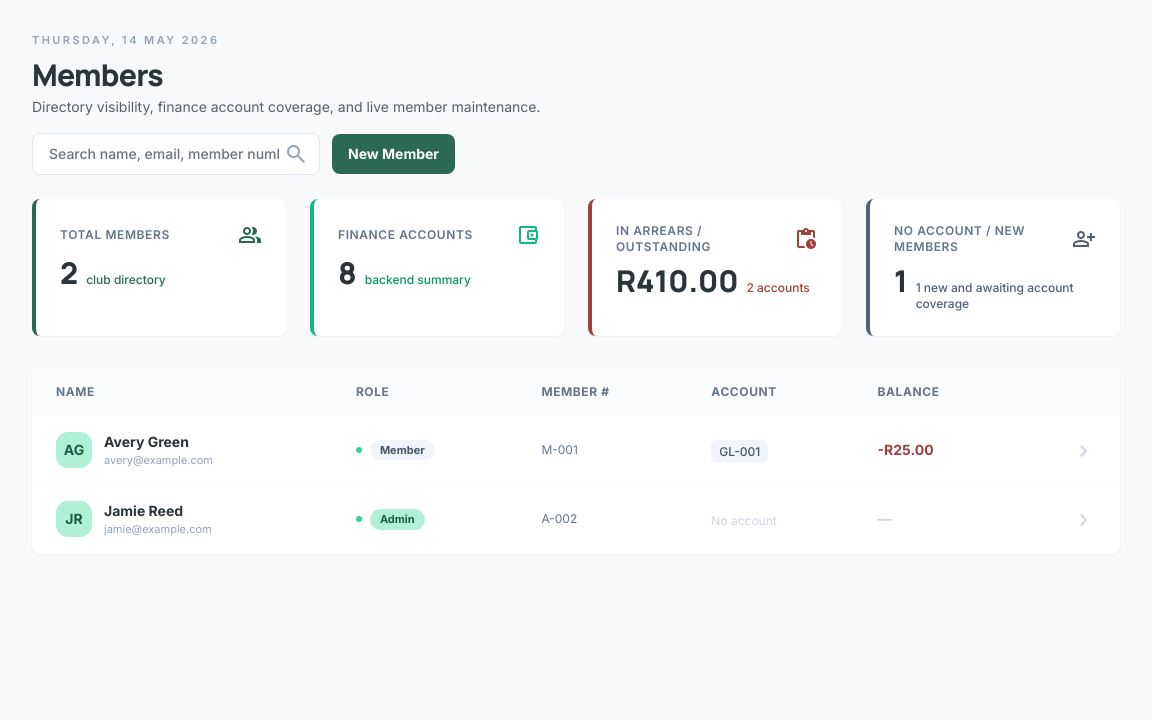
it: AdminMembersPage › keeps the create modal open and renders the error inside the modal on create failure
Click the button "New Member" at (394, 154), box [332,134,455,174]
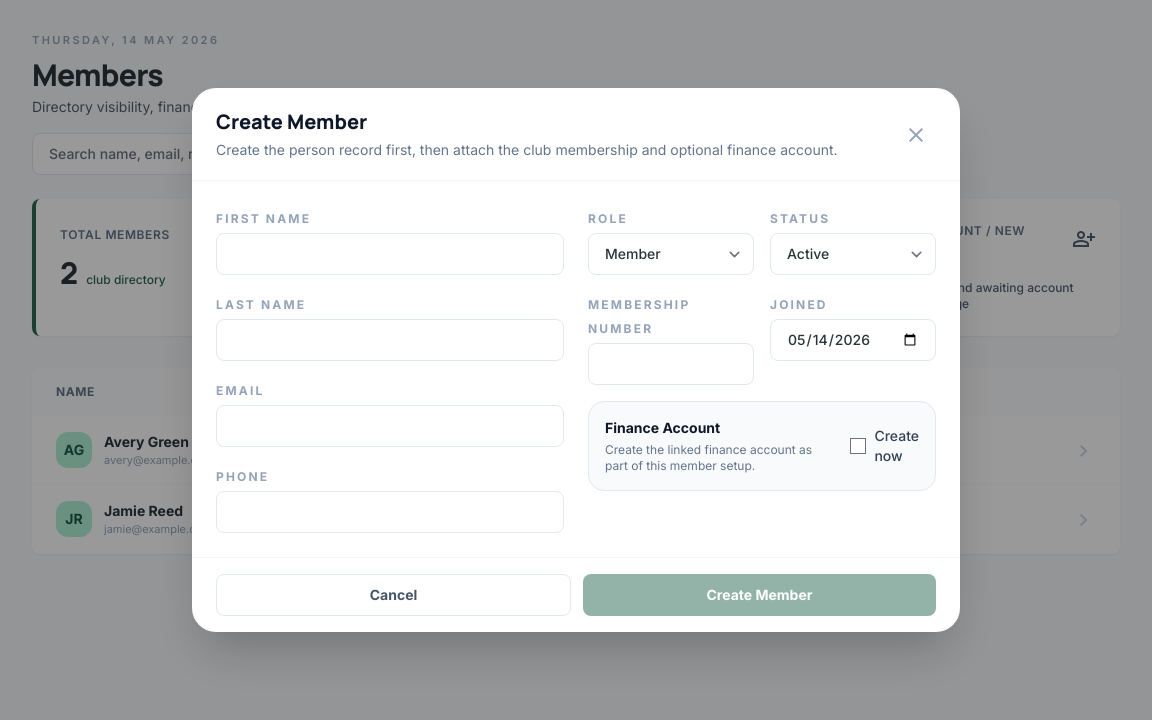
Type "Casey" into the field labelled "First Name" at (390, 254), box [216,233,564,275]
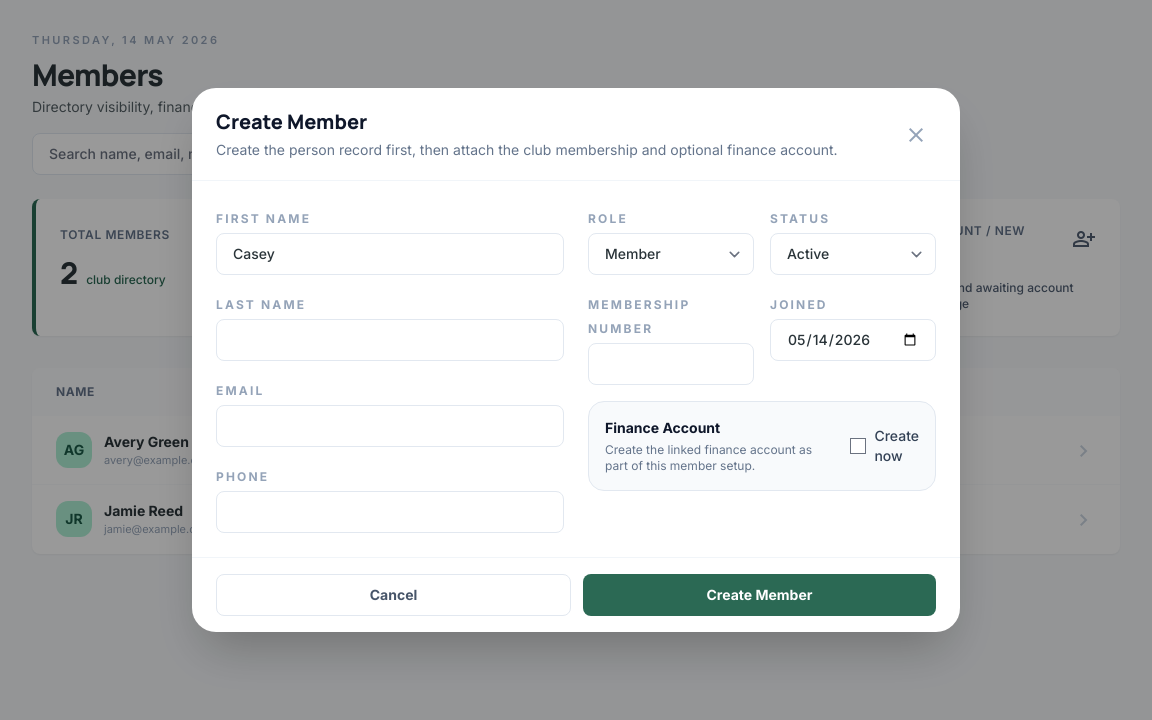
Type "bad-email" into the field labelled "Email" at (390, 426), box [216,405,564,447]
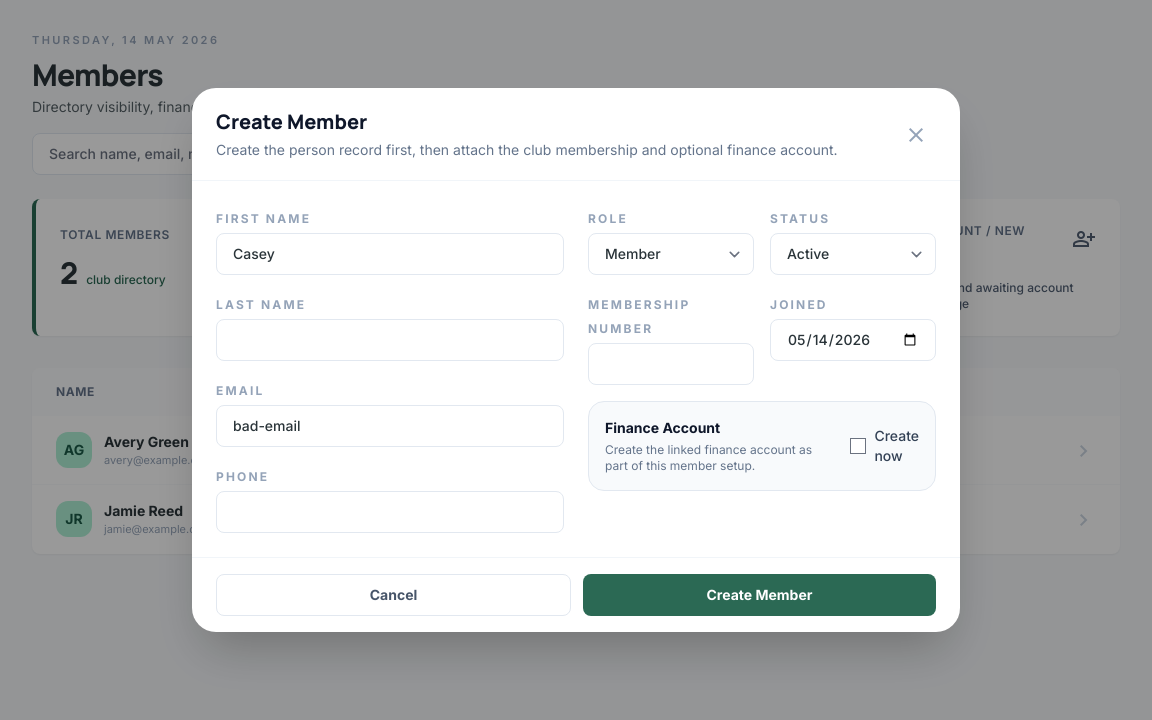
Click the button "Create Member" at (760, 595), box [583,574,936,616]
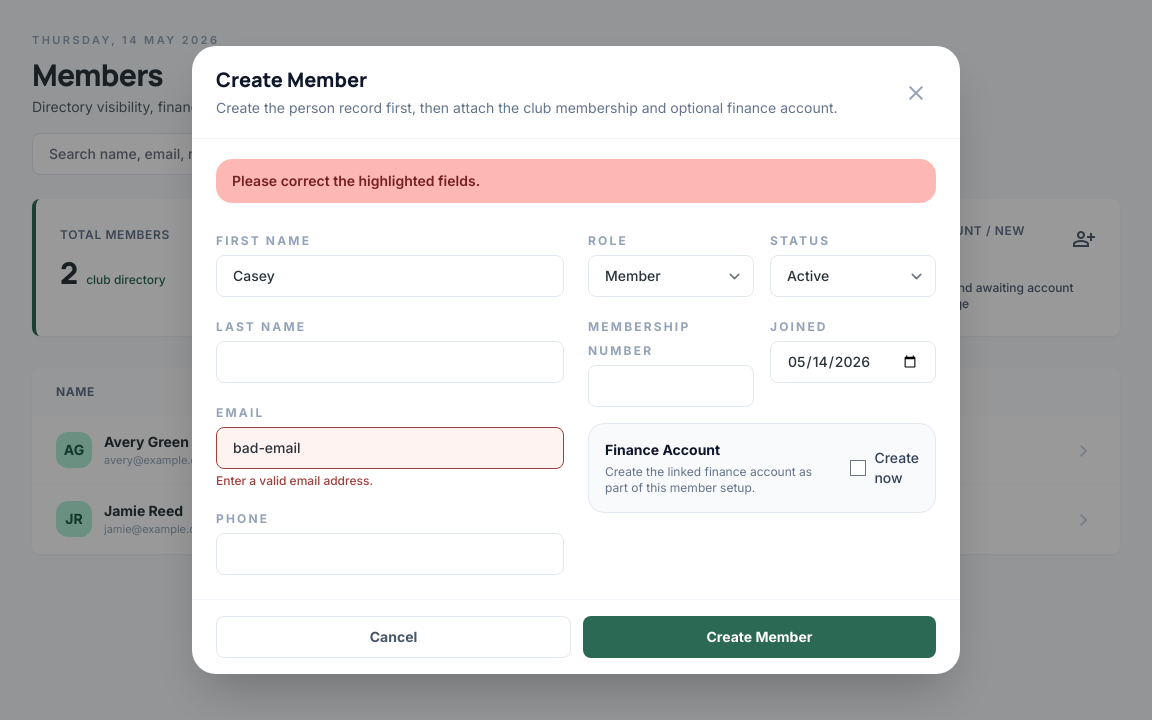
Expected: the message reads "Please correct the highlighted fields.", [232,172,480,189]
Expected: the text "Enter a valid email address." is shown, [216,473,373,488]
